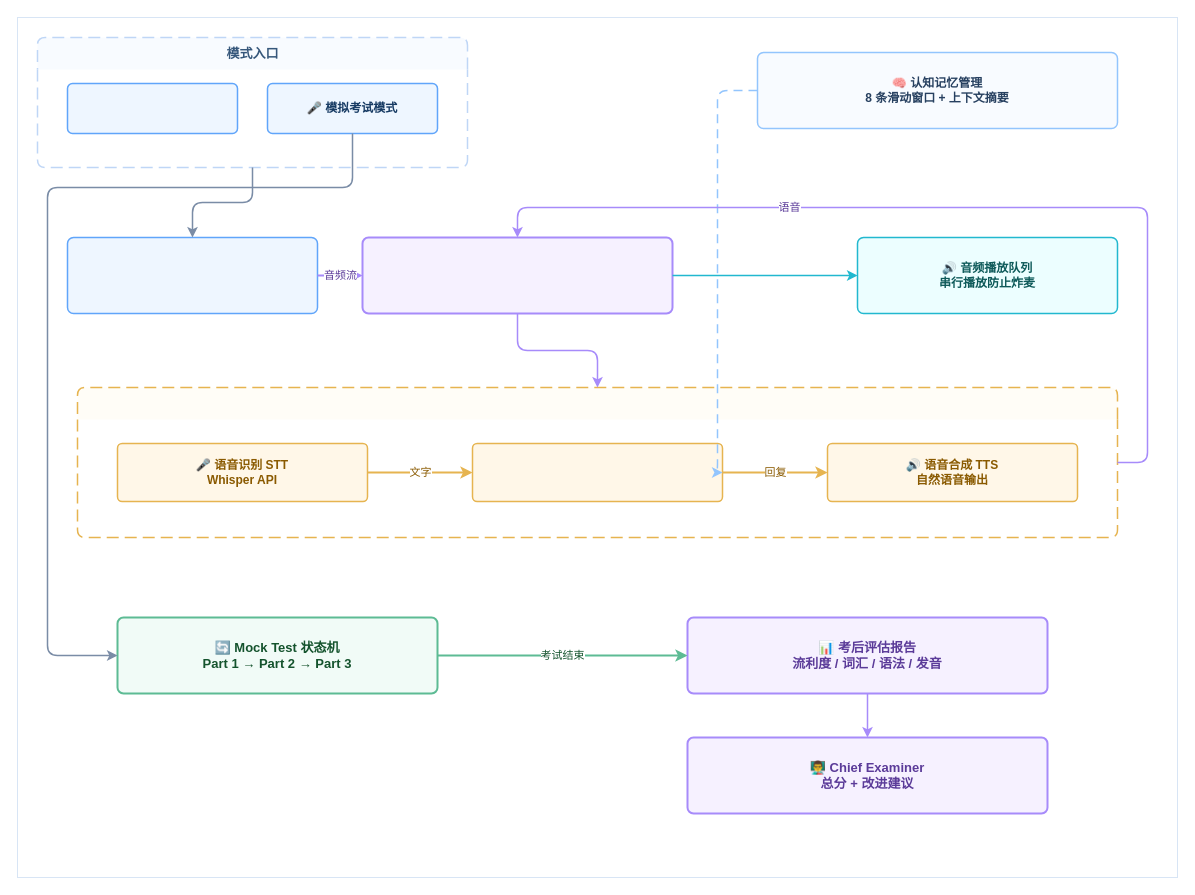
Image size: 1195x895. Some labels were removed from this diagram. Here are the shapes that lost their labels. From the top down, the box of each, then its label:
(66, 82, 238, 134): 💬 自由对话模式
(66, 236, 318, 314): 🎙️ 麦克风录音 按键说话 + 语音检测
(361, 236, 673, 314): 🔌 WebSocket 实时连接 自动重连 / 心跳保活
(76, 386, 1118, 538): 语音处理流水线
(471, 442, 723, 502): 🧠 考官 AI LLM
